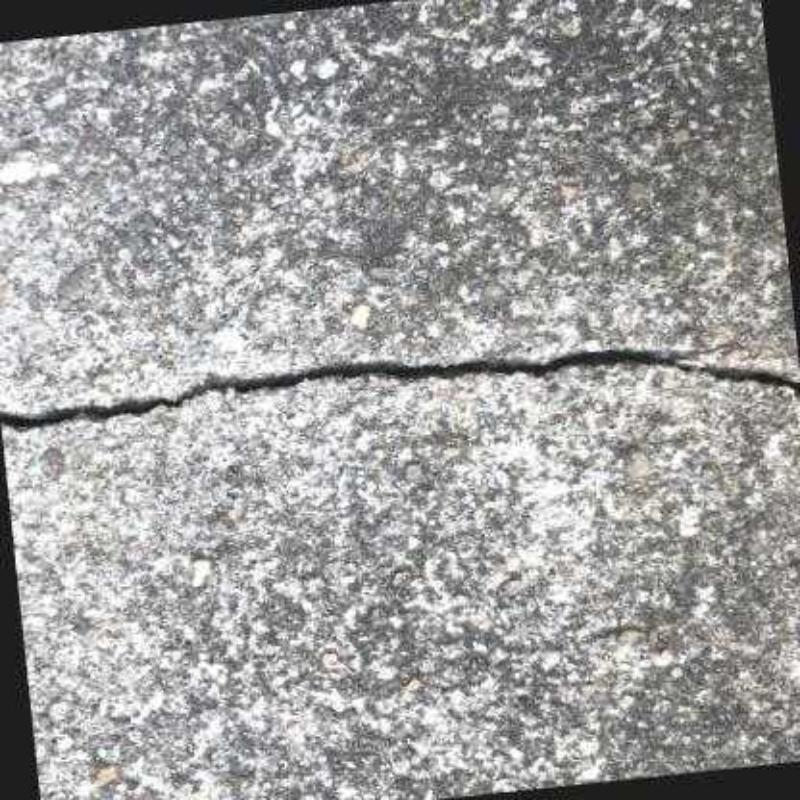pothole: (1, 348, 799, 433)
